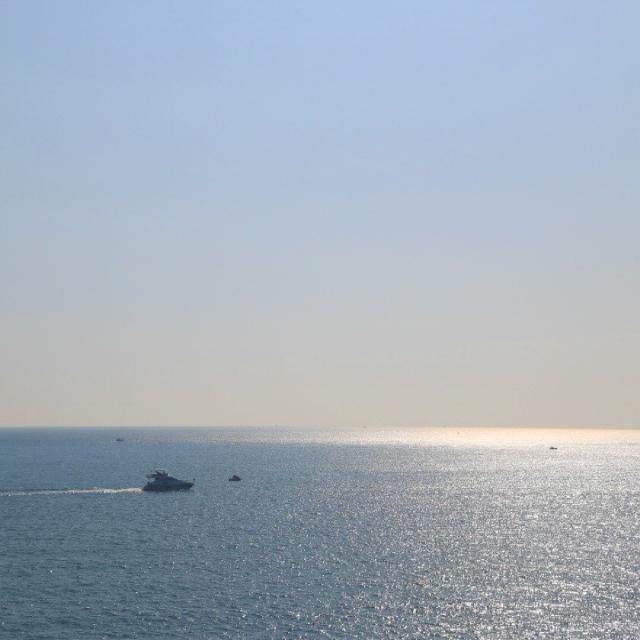houseboat: (140, 460, 198, 499)
